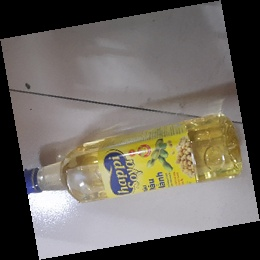Happy Soya: (23, 113, 242, 204)
